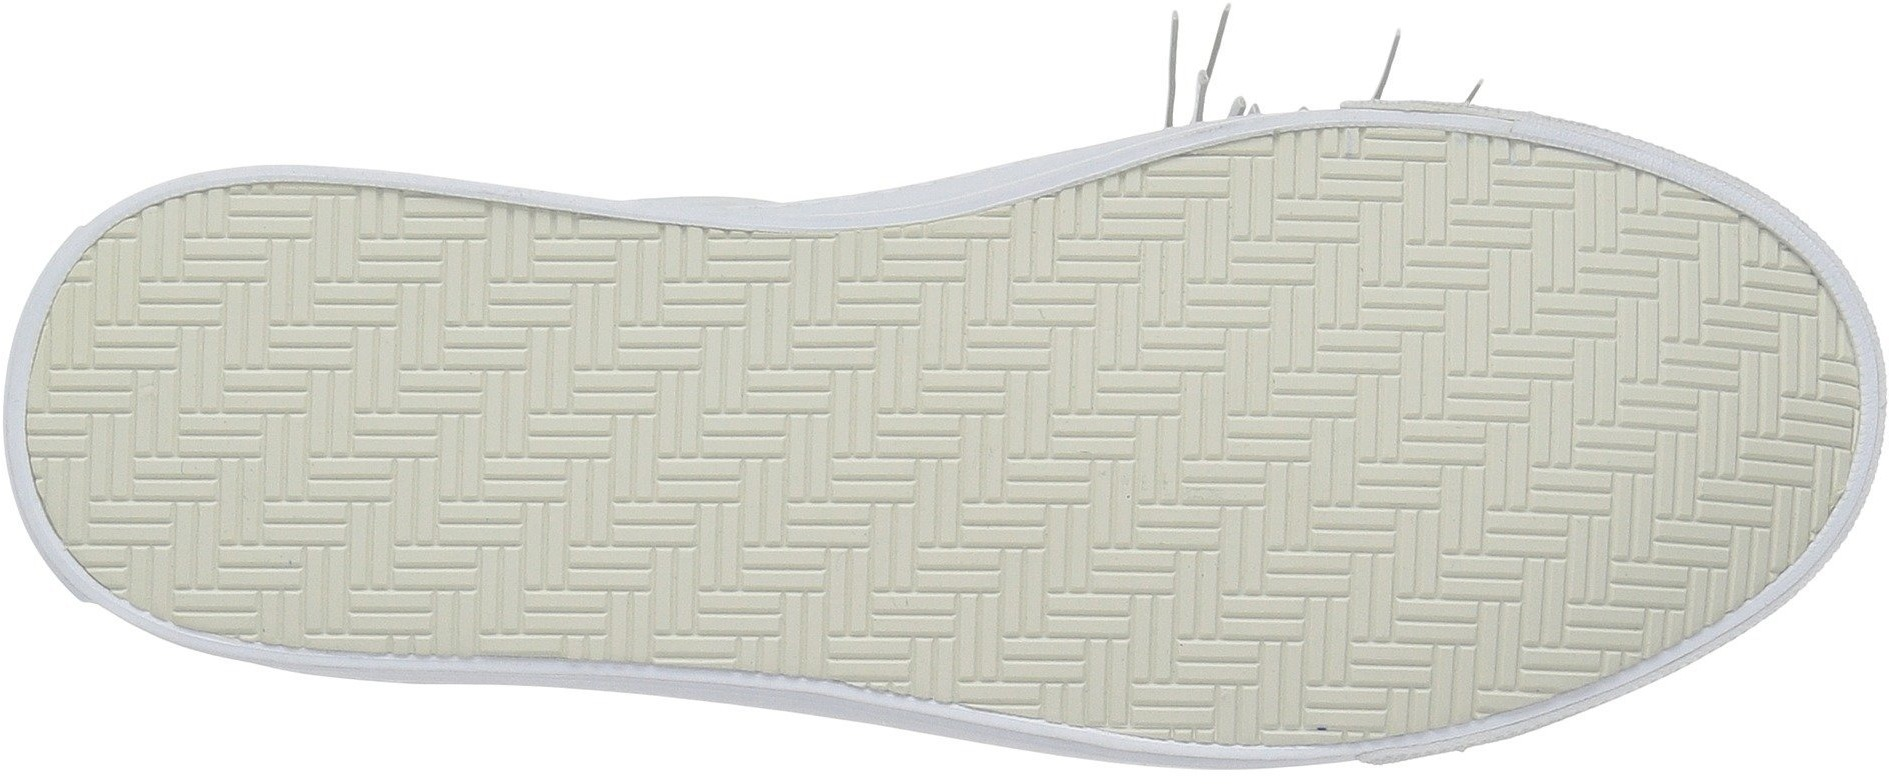quad: (1397, 222, 1763, 570), (430, 276, 766, 605), (1125, 412, 1449, 726), (781, 252, 1107, 560), (116, 279, 398, 550), (1122, 179, 1388, 403), (970, 565, 1116, 702), (1461, 574, 1581, 696)
